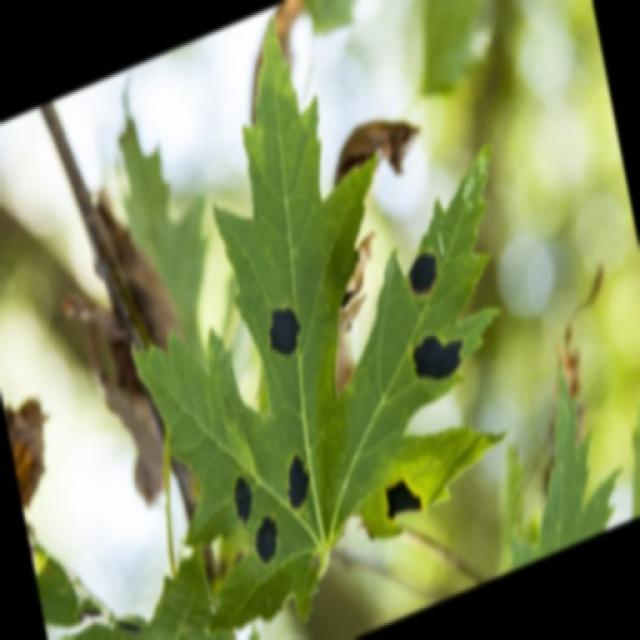Tar_Spot: (98, 216, 491, 547)
